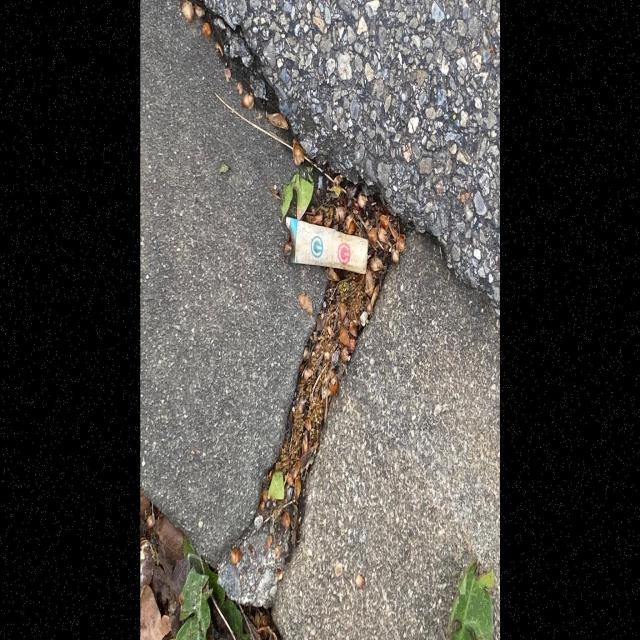other waste: (285, 217, 369, 276)
